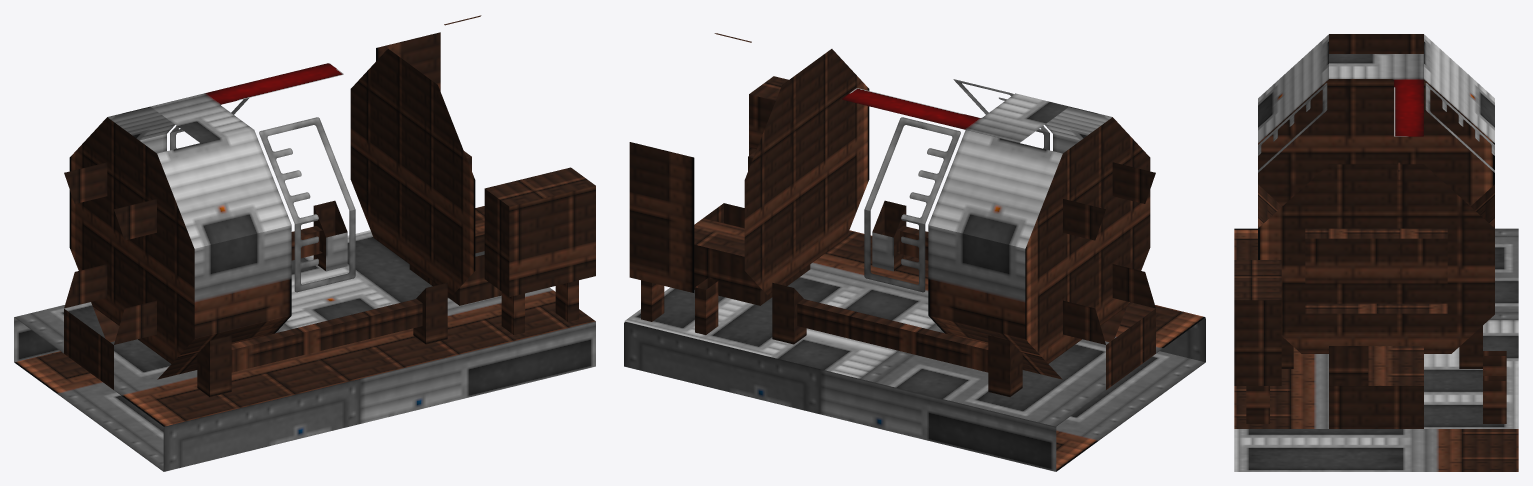
The model's file is boiler.obj.
The picture shows the model from 3 angles, left to right: view 1: azimuth 30°, elevation 25°; view 2: azimuth 150°, elevation 25°; view 3: azimuth 270°, elevation 25°; orthographic projection. The views are drawn at different scales.
Visible parts, largest first — view 1: cube; view 2: cube; view 3: cube.
Part boxes in pixels (x1,y1,x2,y2): cube: (14,15,595,471); cube: (624,33,1205,471); cube: (1234,34,1518,471).
Size of the model in its own units: 5 by 3.25 by 3.
